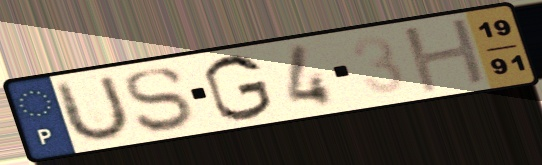3: (350, 33, 408, 97)
4: (281, 40, 336, 111)
G: (200, 53, 276, 124)
H: (399, 14, 493, 96)
S: (121, 65, 197, 136)
U: (53, 71, 134, 146)
